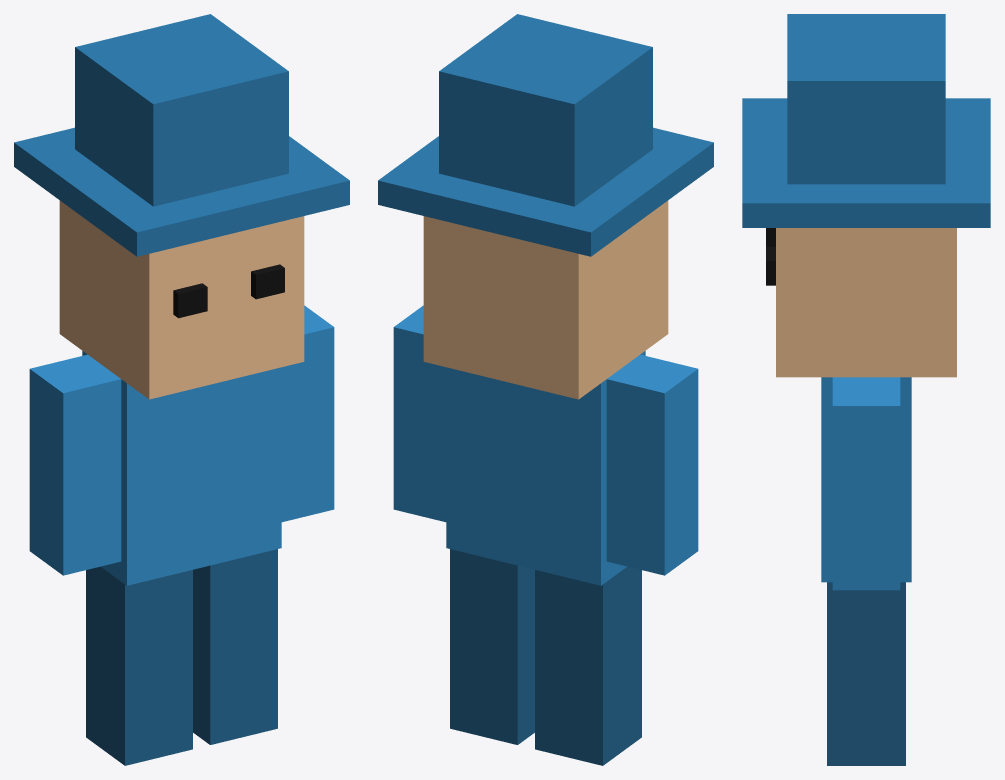
Rendered from npc_loop.obj.
The picture shows the model from 3 angles, left to right: view 1: azimuth 30°, elevation 25°; view 2: azimuth 150°, elevation 25°; view 3: azimuth 270°, elevation 25°; orthographic projection.
Bounding box in the file's own units: 1.4 × 3.32 × 1.1.
